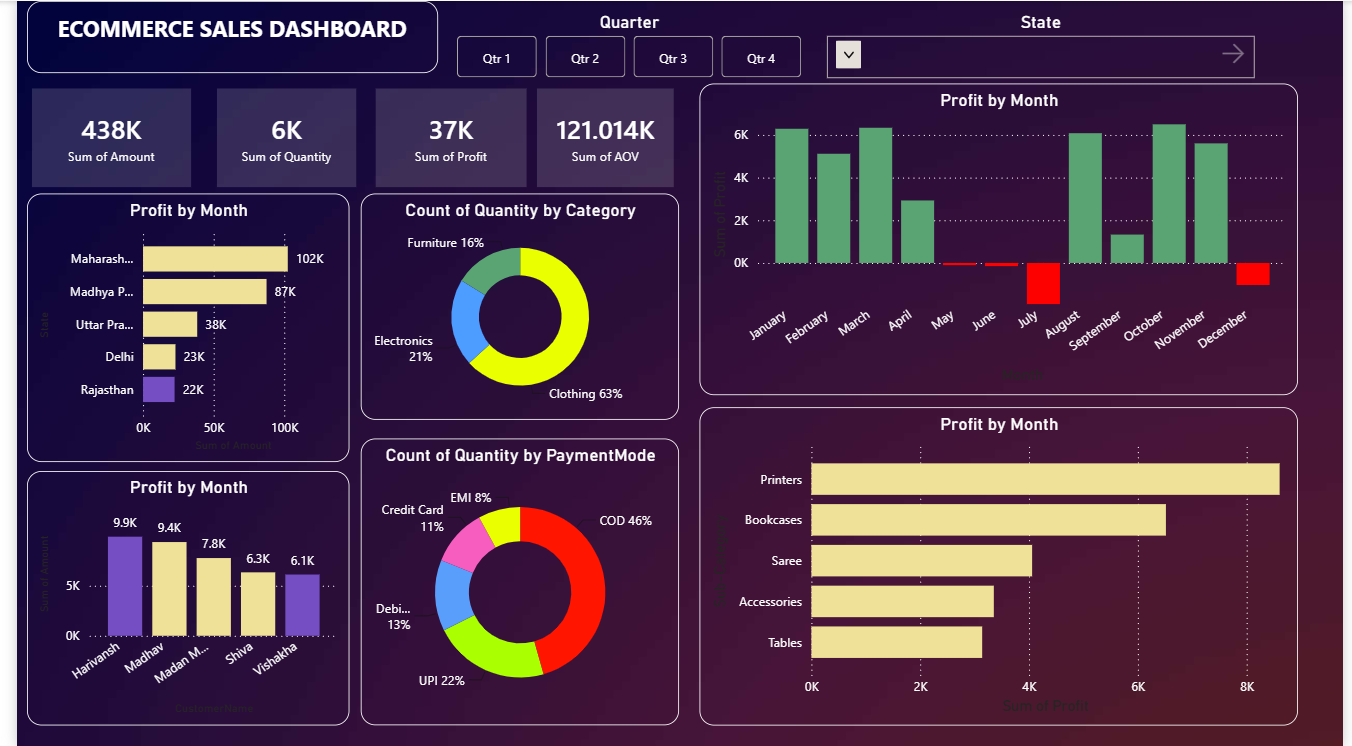

The dashboard page shown, as its layout file describes it:
{"tool":"powerbi","page":{"name":"Page 1","canvas":[1280,720],"ordinal":0},"visuals":[{"type":"textbox","box":[9.6,0,396.6,70],"z":0},{"type":"columnChart","title":"Profit by Month","fields":{"Category":["Orders.Order Date.Variation.Date Hierarchy.Month"],"Y":["Sum(Details.Profit)"]},"box":[658.7,79.6,577.7,300.5],"z":1000},{"type":"barChart","title":"Profit by Month","fields":{"Y":["Sum(Details.Profit)"],"Category":["Details.Sub-Category"]},"box":[658.7,392.5,577.7,307.4],"z":2000},{"type":"donutChart","fields":{"Category":["Details.Category"],"Y":["CountNonNull(Details.Quantity)"]},"box":[332.1,185.2,307.4,218.2],"z":3000},{"type":"donutChart","fields":{"Y":["CountNonNull(Details.Quantity)"],"Category":["Details.PaymentMode"]},"box":[332.1,422.6,307.4,277.2],"z":4000},{"type":"cardVisual","fields":{"Data":["Sum(Details.Amount)"]},"box":[9.6,79.6,163.3,105.7],"z":5000},{"type":"cardVisual","fields":{"Data":["Sum(Details.Quantity)"]},"box":[188,79.6,144.1,105.7],"z":6000},{"type":"cardVisual","fields":{"Data":["Sum(Details.Profit)"]},"box":[341.7,79.6,155.1,105.7],"z":7000},{"type":"cardVisual","fields":{"Data":["Sum(Details.AOV)"]},"box":[496.7,79.6,142.7,105.7],"z":8000},{"type":"barChart","title":"Profit by Month","fields":{"Category":["Orders.State"],"Y":["Sum(Details.Amount)"]},"box":[9.6,185.2,311.5,259.3],"z":9000},{"type":"columnChart","title":"Profit by Month","fields":{"Category":["Orders.CustomerName"],"Y":["Sum(Details.Amount)"]},"box":[9.6,454.2,311.5,245.6],"z":10000},{"type":"advancedSlicerVisual","fields":{"Values":["Orders.Order Date.Variation.Date Hierarchy.Quarter"]},"box":[419.9,9.6,343.1,70],"z":10001},{"type":"textSlicer","fields":{"Values":["Orders.State"]},"box":[776.7,9.6,422.6,70],"z":10002}]}

Visuals, with their boxes in screenshot pixels (x1, y1, x2, y2), scaled from the page's 1280x720 canvas onto the 1352x746 screenshot:
textbox: [10,0,429,73]
"Profit by Month" columnChart: [696,82,1306,394]
"Profit by Month" barChart: [696,407,1306,725]
donutChart - Details.Category x CountNonNull(Details.Quantity): [351,192,675,418]
donutChart - CountNonNull(Details.Quantity) x Details.PaymentMode: [351,438,675,725]
cardVisual - Sum(Details.Amount): [10,82,183,192]
cardVisual - Sum(Details.Quantity): [199,82,351,192]
cardVisual - Sum(Details.Profit): [361,82,525,192]
cardVisual - Sum(Details.AOV): [525,82,675,192]
"Profit by Month" barChart: [10,192,339,461]
"Profit by Month" columnChart: [10,471,339,725]
advancedSlicerVisual - Orders.Order Date.Variation.Date Hierarchy.Quarter: [444,10,806,82]
textSlicer - Orders.State: [820,10,1267,82]
